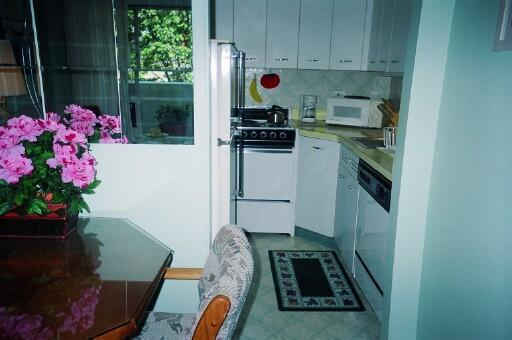Electrodomestico: (239, 131, 296, 237), (352, 155, 386, 305), (213, 40, 237, 219)
